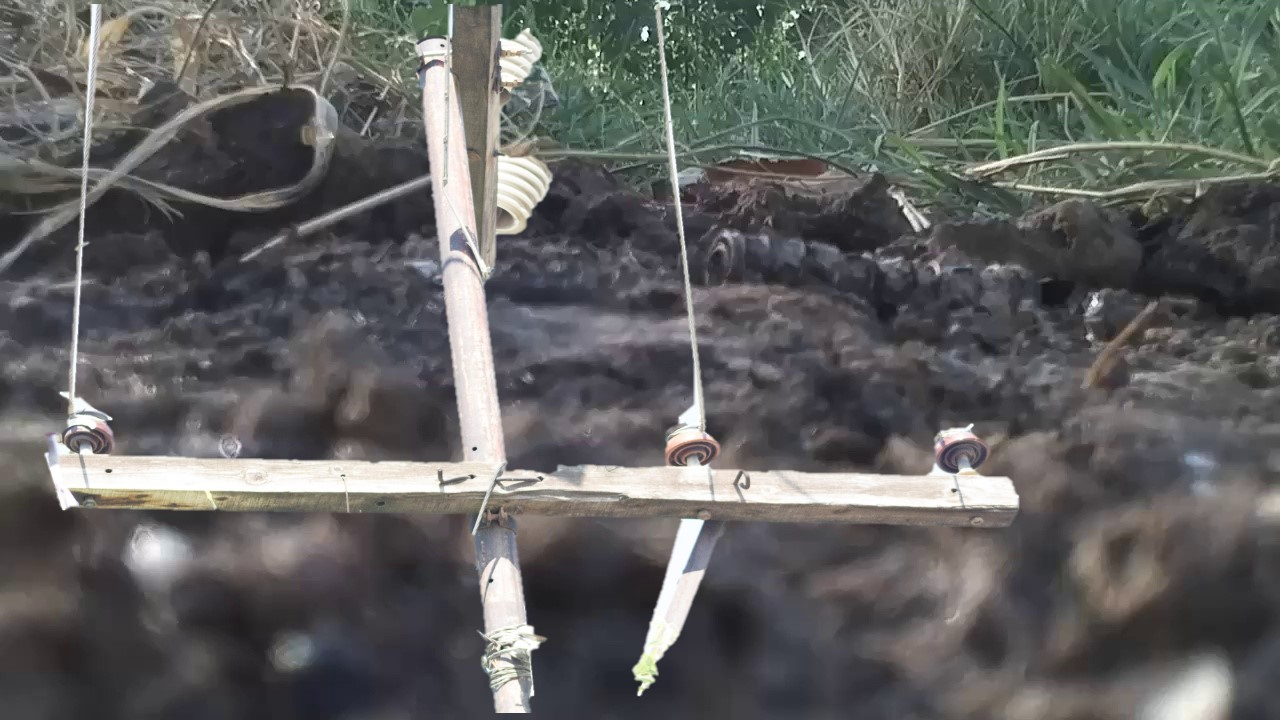defect_pin: (56, 404, 117, 458)
insulator_pin: (931, 418, 992, 473), (659, 417, 725, 464)
